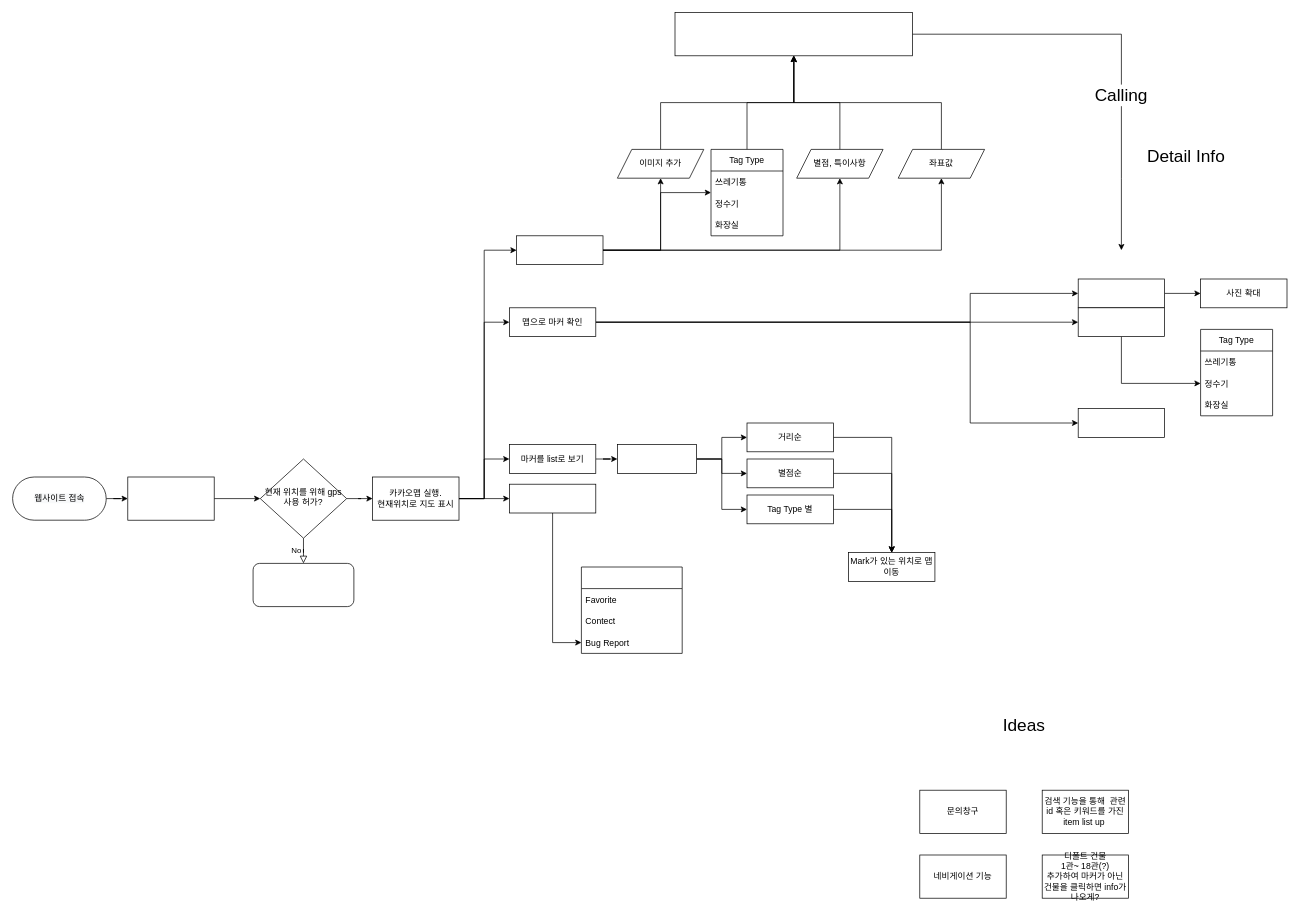
The diagram is 1300 pixels wide and 915 high, and some of its shapes have lost their labels. Here are the shapes that lost their labels. From the top down, the centre of each, then its label:
(793,34): 백엔드 DataBase
(559,250): 현재위치 마커 생성
(1121,293): 사진 클릭
(1121,322): Tag 확인
(1121,422): 신고
(657,458): 필터
(170,498): 카카오맵 기본위치 기본 ui출력
(552,498): 사이드 바
(303,585): 사용 불가
